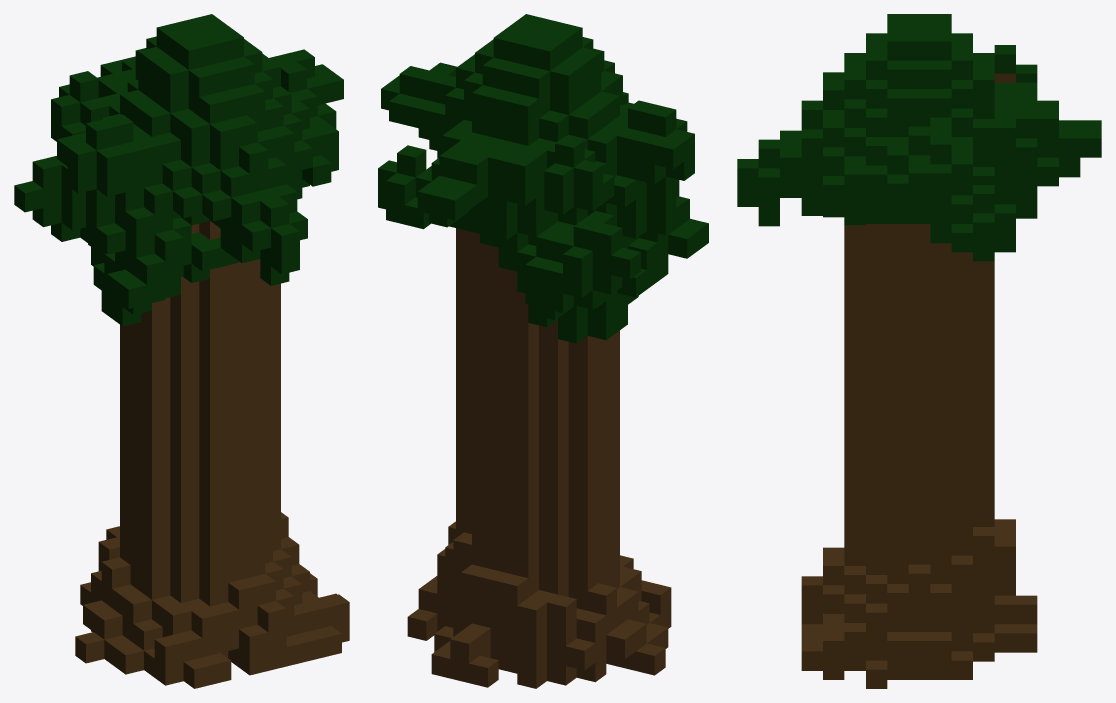
Rendered from Redwood Tree.obj.
3 renders of one model, left to right at view 1: azimuth 30°, elevation 25°; view 2: azimuth 150°, elevation 25°; view 3: azimuth 270°, elevation 25°, orthographic.
Parts seen in each view (by area): view 1: Redwood Tree; view 2: Redwood Tree; view 3: Redwood Tree.
Boxes of the visible parts, bbox=[...] form: Redwood Tree: bbox=[14, 14, 349, 688]; Redwood Tree: bbox=[378, 14, 708, 688]; Redwood Tree: bbox=[737, 14, 1101, 688].
Size of the model in its own units: 15 by 31 by 17.
1 material, 1 textured.
